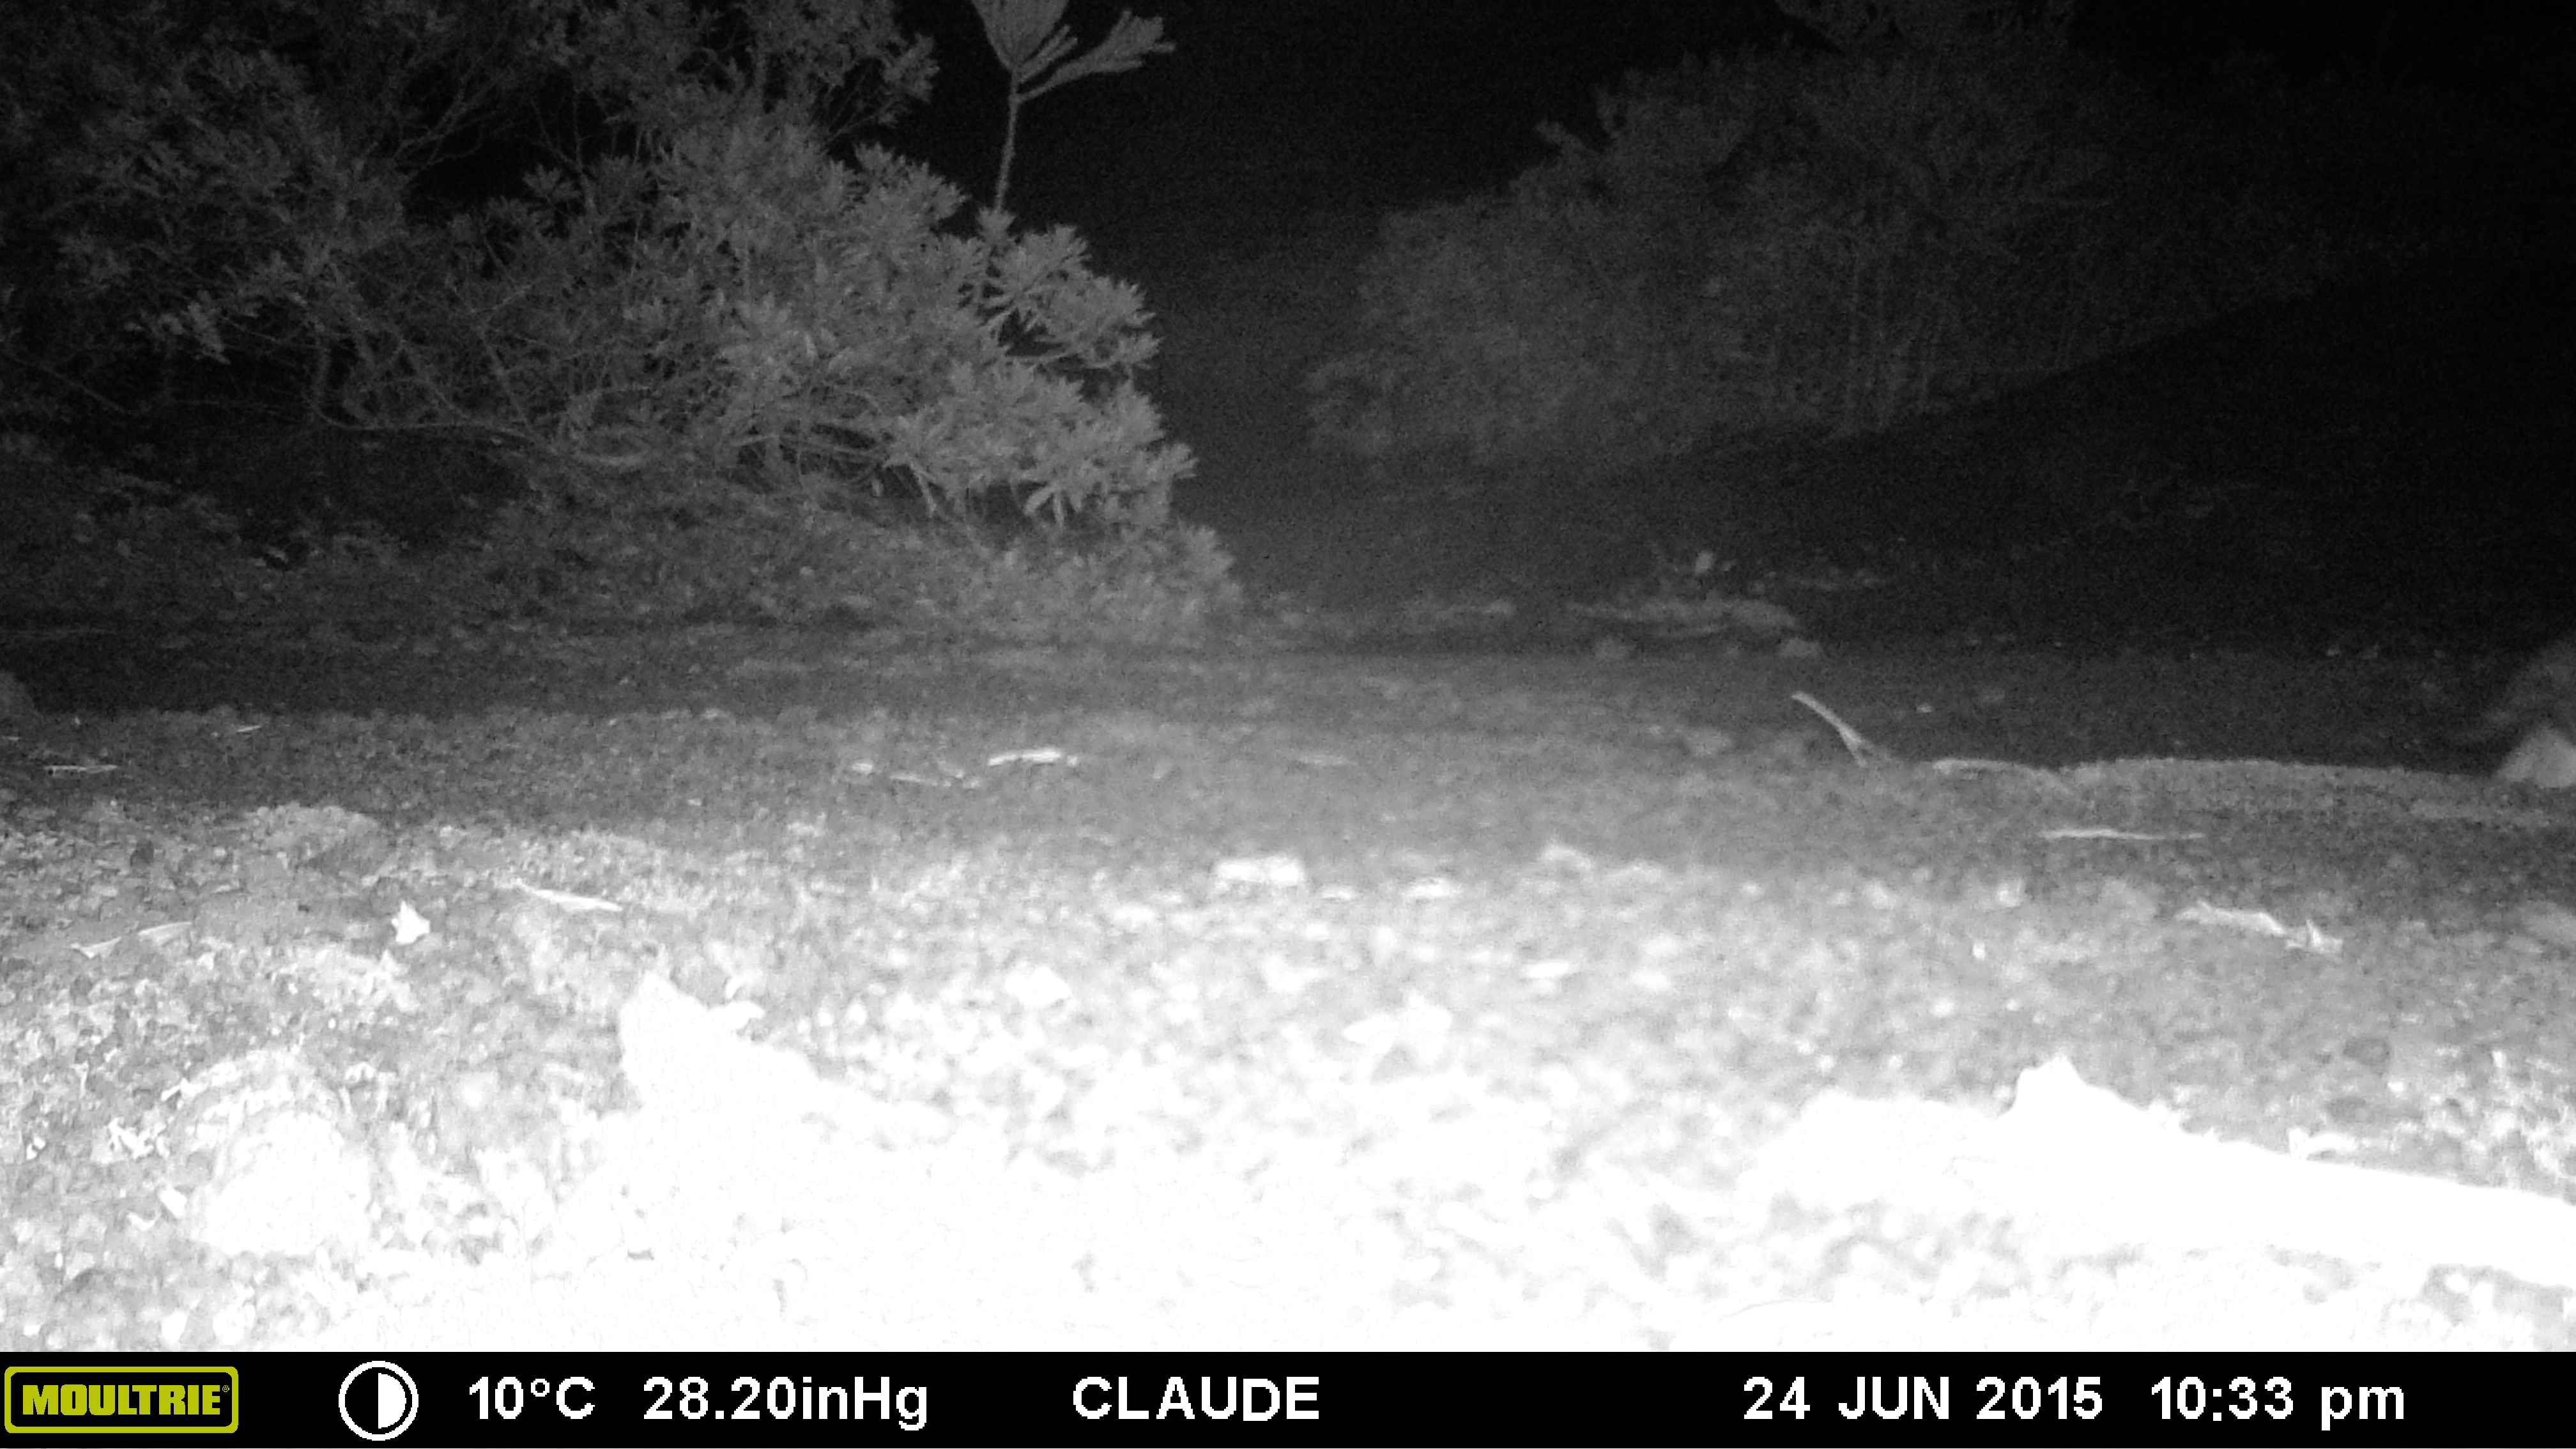cat: (2470, 598, 2572, 801)
